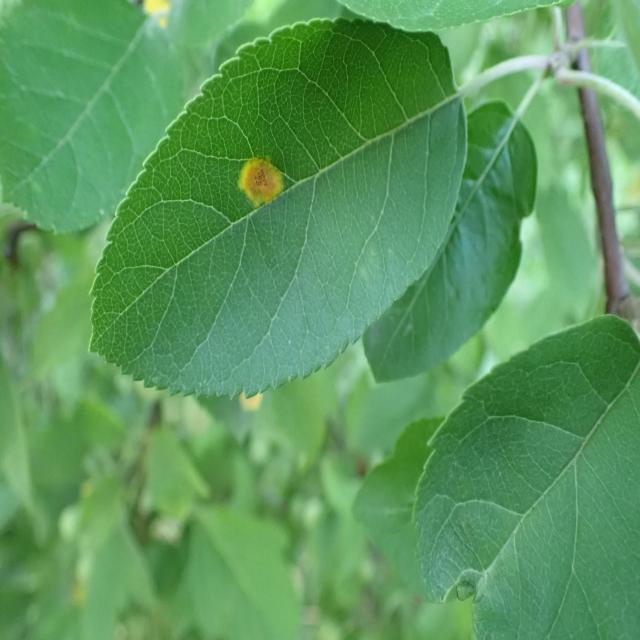Rust: (236, 132, 285, 216)
